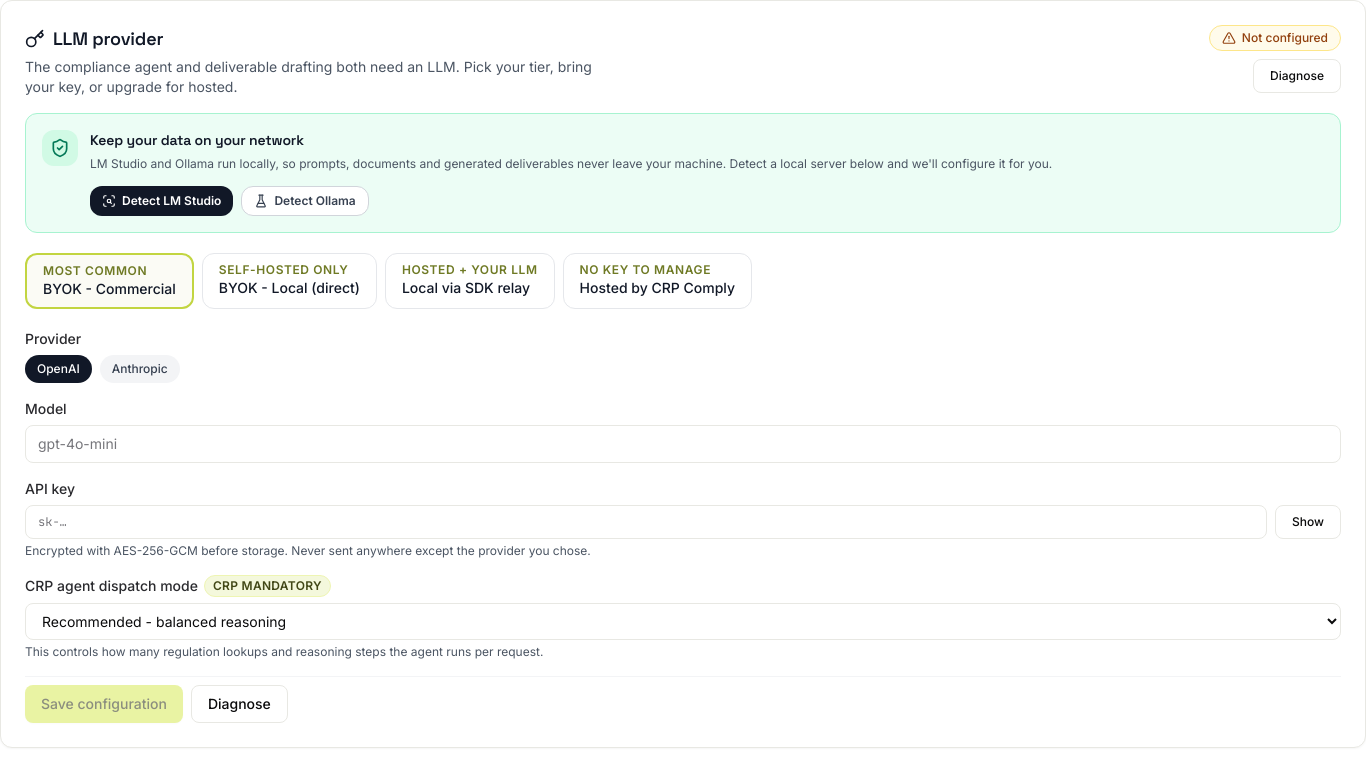
Scenario: LLMProviderPanel › chains detect LM Studio through configure, test, and context lookup
The image size is (1366, 768).
Step 1. Click the button "Detect LM Studio" → (162, 200), box [90, 186, 233, 216]
(page scrolled)
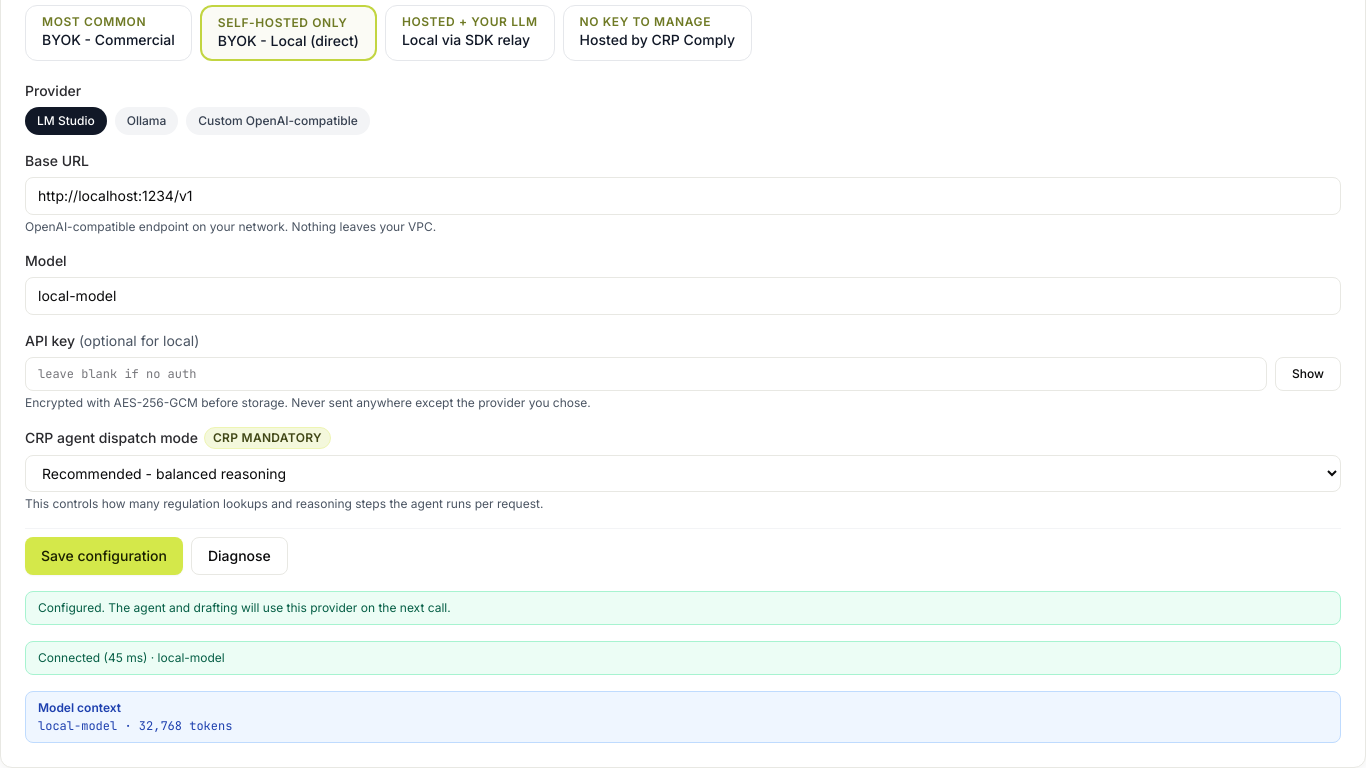
Result: the text "local-model · 32,768 tokens" is shown at [38, 718, 232, 734]
